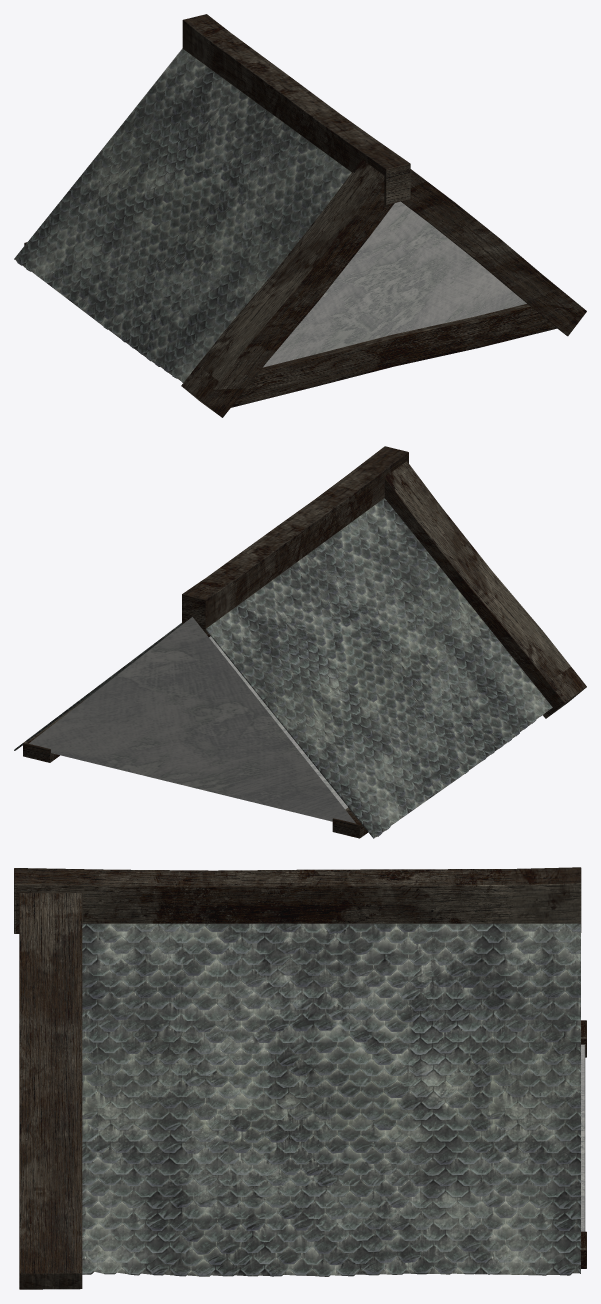
Rendered from WhiteRoof2.fbx.
3 views of the same model, one above another, from view 1: azimuth 30°, elevation 25°; view 2: azimuth 150°, elevation 25°; view 3: azimuth 270°, elevation 25° (orthographic). The views are drawn at different scales.
Visible parts, largest first — view 1: White Wall Roof Large Addon; view 2: White Wall Roof Large Addon; view 3: White Wall Roof Large Addon.
Boxes of the visible parts, bbox=[...] form: White Wall Roof Large Addon: bbox=[14, 14, 586, 417]; White Wall Roof Large Addon: bbox=[14, 446, 586, 838]; White Wall Roof Large Addon: bbox=[14, 867, 586, 1289].
Bounding box in the file's own units: 534 × 285 × 496.
